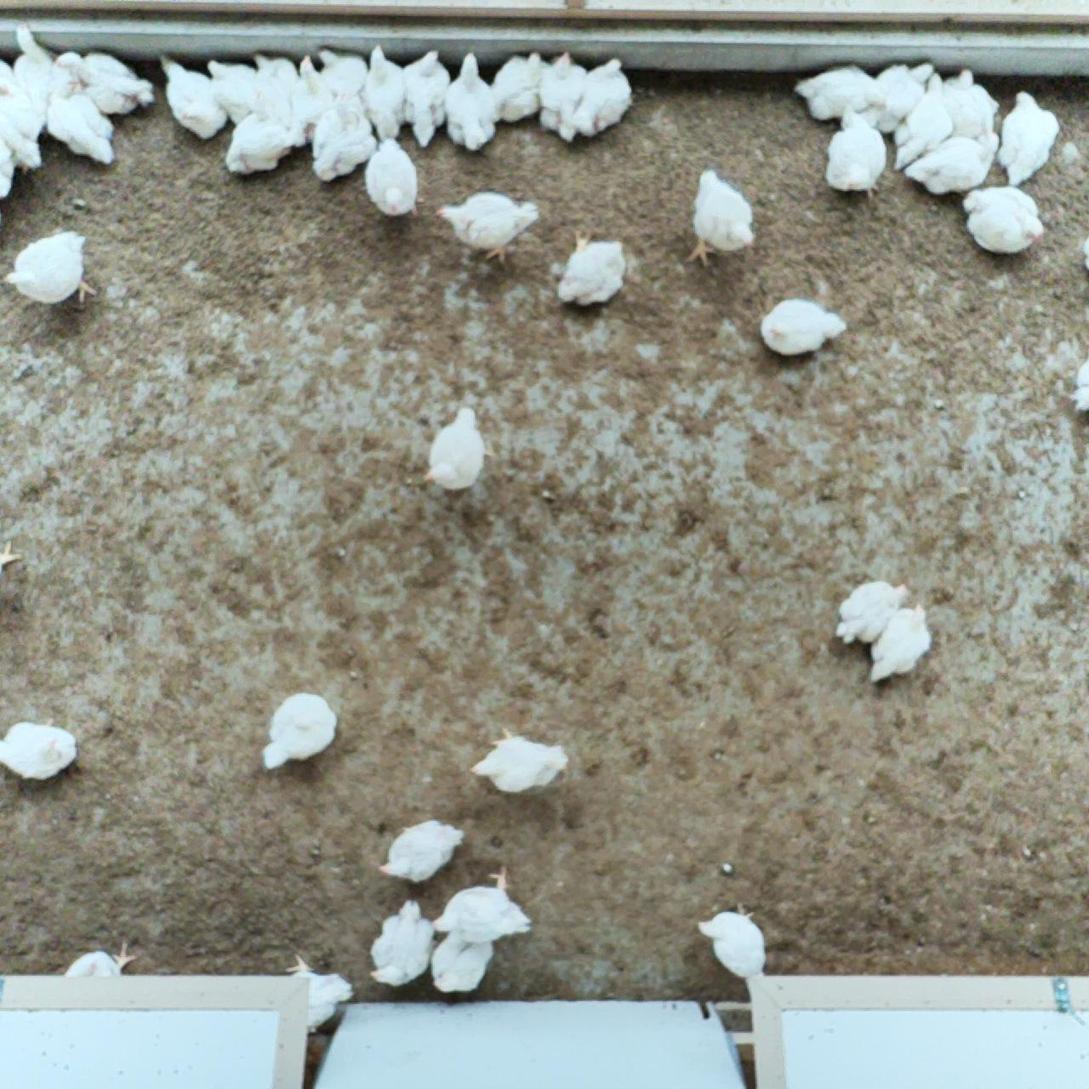chicken: (426, 860, 535, 943), (682, 164, 761, 271), (468, 721, 573, 801), (432, 189, 539, 265), (0, 228, 102, 307), (364, 889, 439, 992), (51, 46, 156, 117), (823, 97, 889, 202), (418, 402, 494, 493), (258, 690, 339, 775), (43, 85, 123, 169), (311, 88, 379, 186), (695, 899, 775, 982), (906, 128, 1000, 198), (996, 88, 1061, 189), (892, 70, 955, 172), (555, 224, 630, 309), (158, 52, 227, 144), (962, 184, 1047, 258), (865, 600, 934, 690), (444, 50, 500, 157), (794, 60, 892, 121), (379, 818, 465, 887), (757, 296, 849, 360), (283, 951, 353, 1035), (859, 58, 936, 133), (0, 716, 81, 785), (363, 137, 428, 221), (834, 579, 913, 647), (401, 47, 453, 149), (575, 55, 637, 138), (539, 47, 590, 144), (282, 53, 335, 145), (12, 16, 60, 117), (223, 108, 293, 176), (488, 50, 551, 124), (362, 42, 409, 141), (941, 65, 1000, 141), (432, 929, 498, 996), (0, 77, 44, 174), (206, 54, 260, 125), (316, 46, 373, 110), (251, 50, 298, 125), (61, 938, 137, 980), (0, 134, 20, 202)
